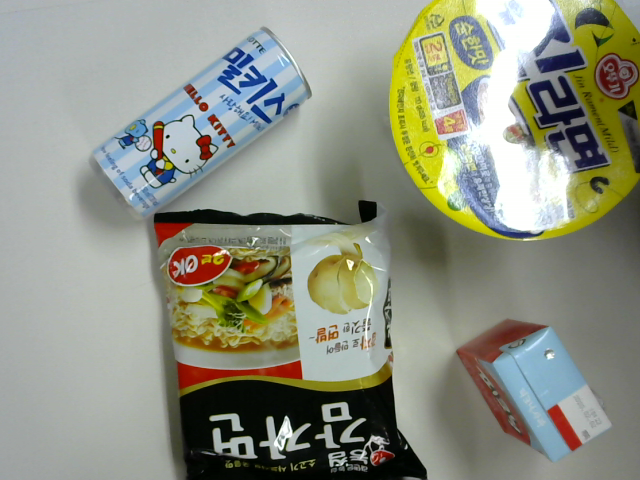Jinlamyeon_Mild_Taste_Large_Cup: (374, 1, 635, 250)
Milkies_250ml: (87, 22, 314, 209)
Picnic_Apple: (444, 307, 614, 462)
Potato: (146, 208, 409, 480)
